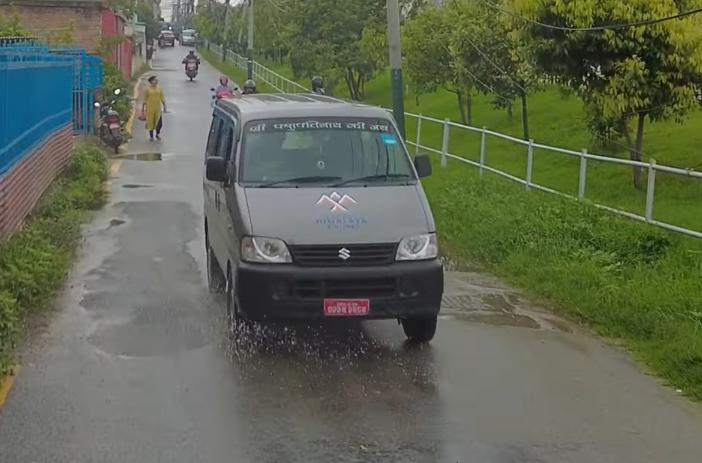van: (205, 90, 466, 353)
